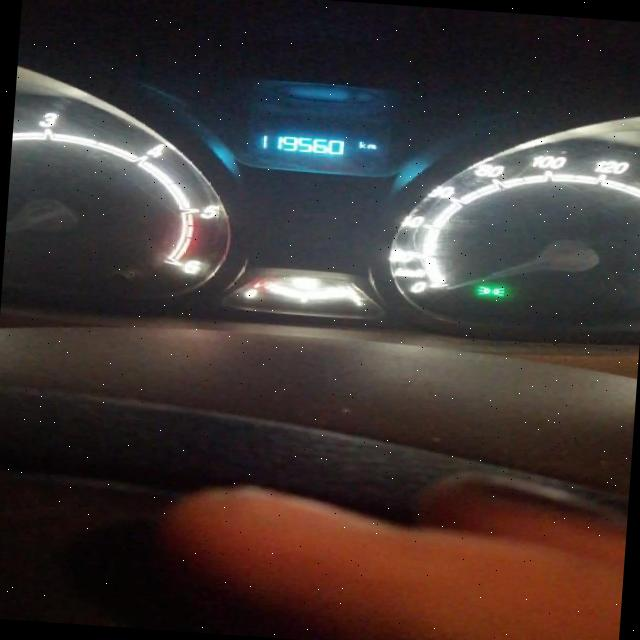odometer: (228, 118, 412, 180)
